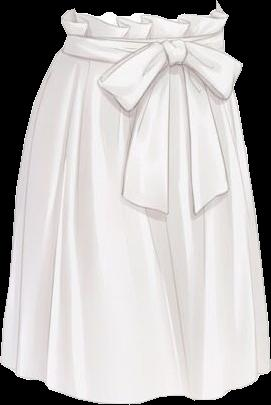Hemline: (0, 359, 270, 404)
Waistline: (59, 2, 225, 28), (59, 50, 225, 67), (64, 30, 225, 44)
